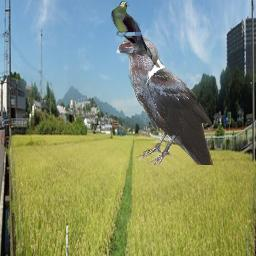Crow: (116, 36, 214, 165)
Cuckoo: (111, 1, 163, 69)
